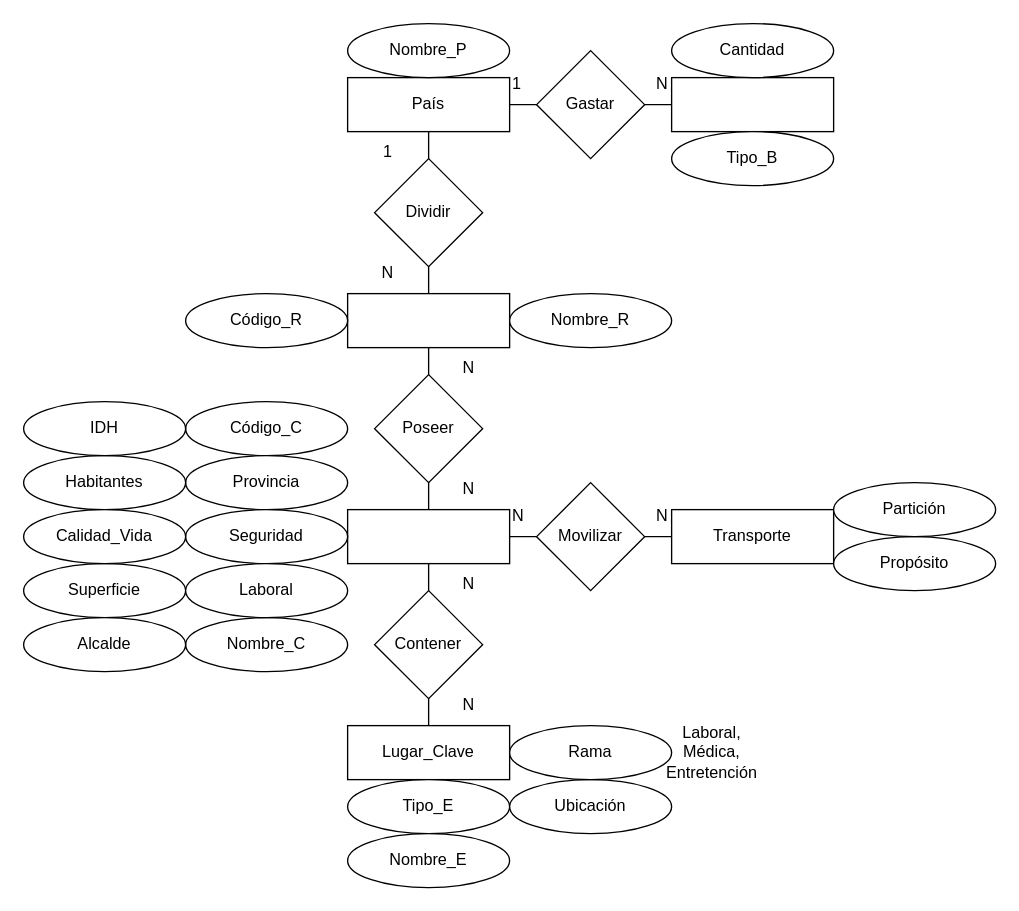
This 1019x911 diagram has some shape labels left out. Each missing label, with the centre of its shape:
"Bienestar" goes at point (752, 104).
"Comuna" goes at point (428, 536).
"Región" goes at point (428, 320).
